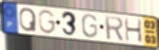3: (61, 11, 79, 38)
G: (37, 9, 57, 35), (81, 13, 99, 39)
H: (124, 17, 144, 44)
Q: (19, 7, 38, 34)
R: (103, 15, 125, 42)
